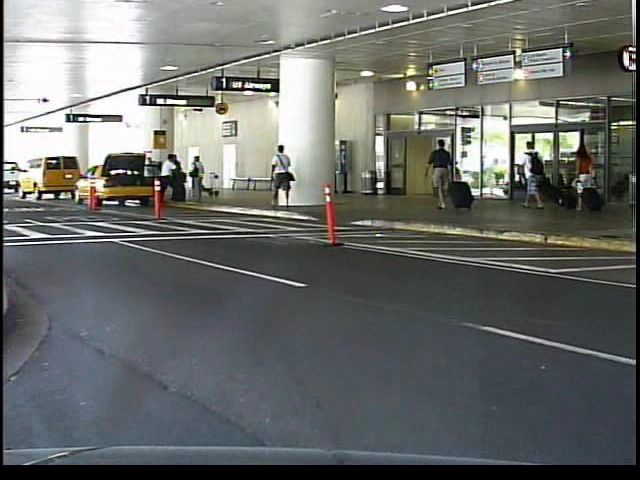person: (516, 136, 553, 216), (571, 132, 603, 220), (427, 135, 461, 211), (267, 140, 299, 214)
